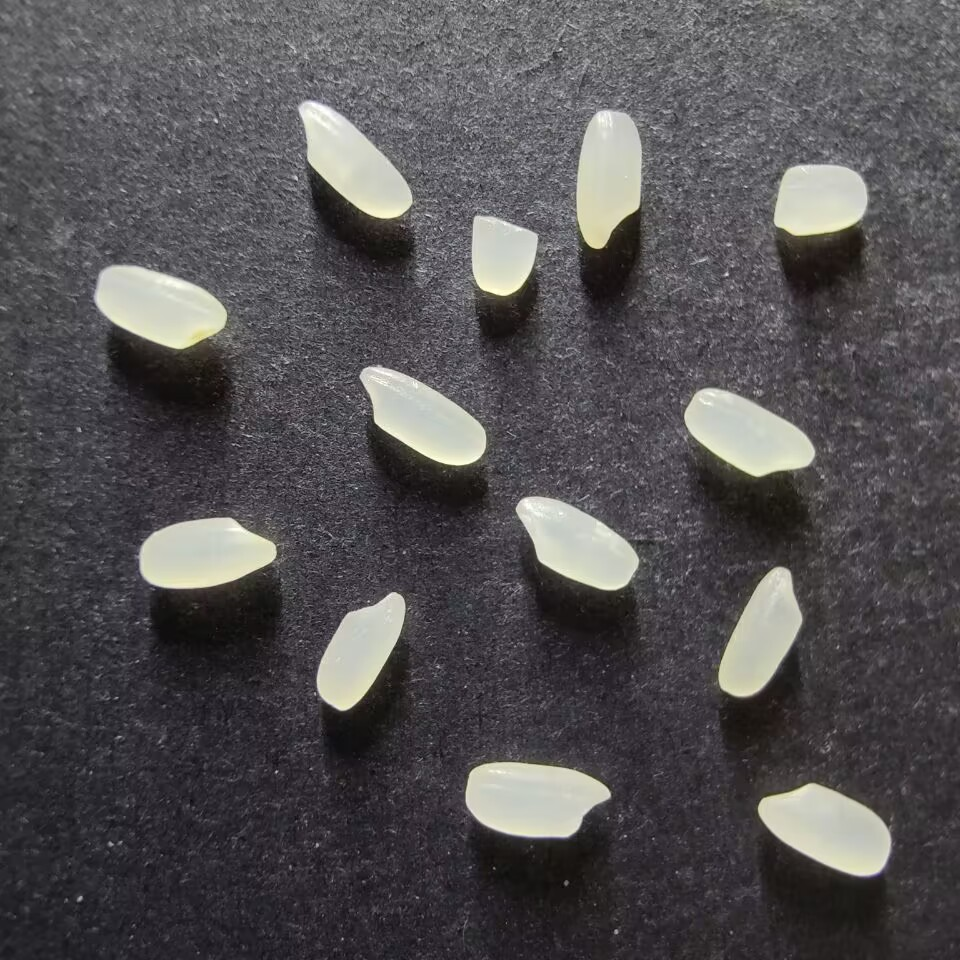broken: (773, 163, 867, 236), (470, 213, 539, 296)
rice: (296, 99, 413, 219), (357, 366, 487, 466), (757, 783, 891, 877), (683, 387, 814, 477), (716, 566, 803, 698), (515, 496, 637, 590), (464, 761, 611, 838), (93, 265, 226, 349), (315, 590, 405, 711), (138, 517, 277, 589), (575, 110, 642, 250)
